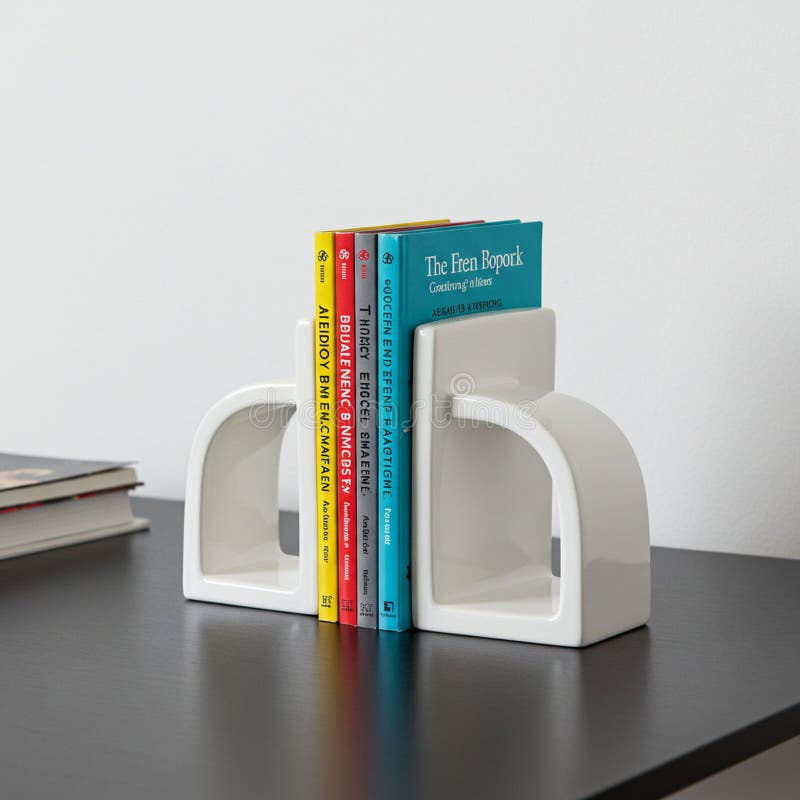not a gesture sign: (375, 221, 541, 630)
